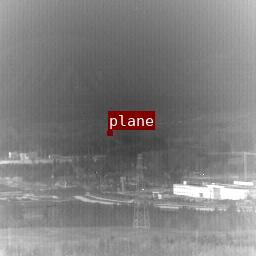plane: (108, 130, 111, 134)
